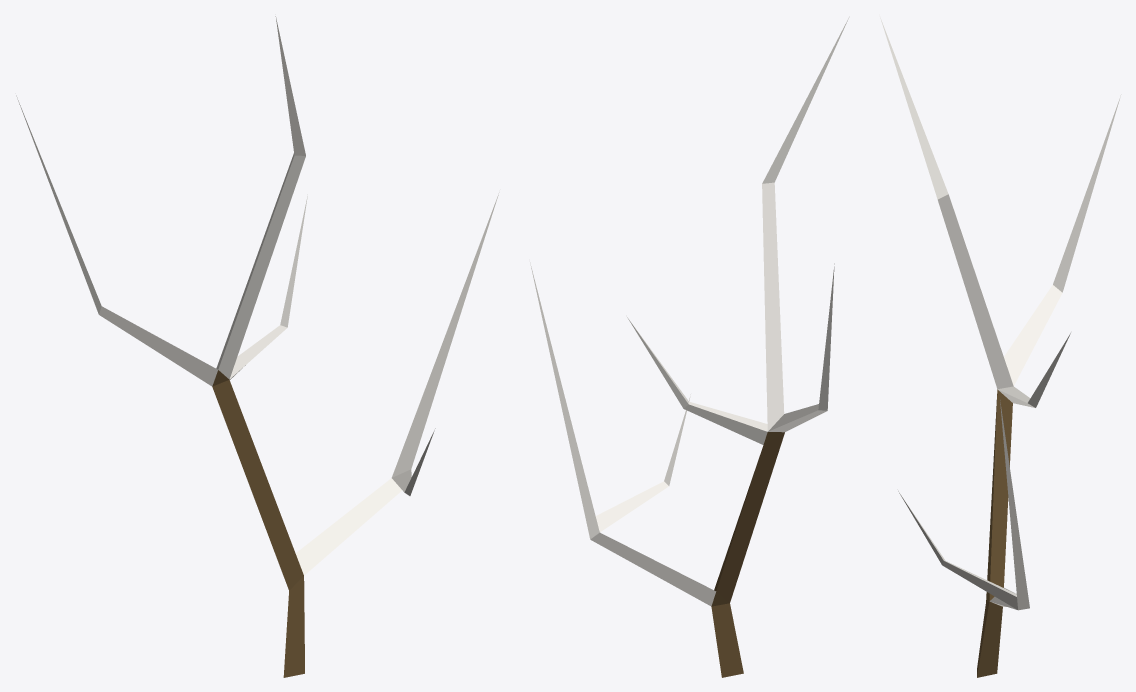
File: Model_Frost_Plants5.fbx
3 views of the same model, side by side, from view 1: azimuth 30°, elevation 25°; view 2: azimuth 150°, elevation 25°; view 3: azimuth 270°, elevation 25° (orthographic). The views are drawn at different scales.
Parts seen in each view (by area): view 1: cao5; view 2: cao5; view 3: cao5.
Part boxes in pixels (x1,y1,x2,y2): cao5: [16, 16, 499, 677]; cao5: [530, 16, 849, 677]; cao5: [880, 17, 1121, 677].
Bounding box in the file's own units: 56.39 × 93.54 × 32.8.
Materials: 1 (1 with a texture image).
